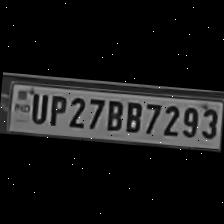2: (64, 93, 88, 129), (158, 101, 181, 137)
3: (198, 104, 219, 139)
7: (140, 98, 162, 134), (84, 94, 104, 130)
9: (177, 102, 200, 138)
B: (102, 94, 125, 132), (122, 96, 144, 134)
P: (45, 90, 67, 126)
U: (26, 90, 48, 124)
